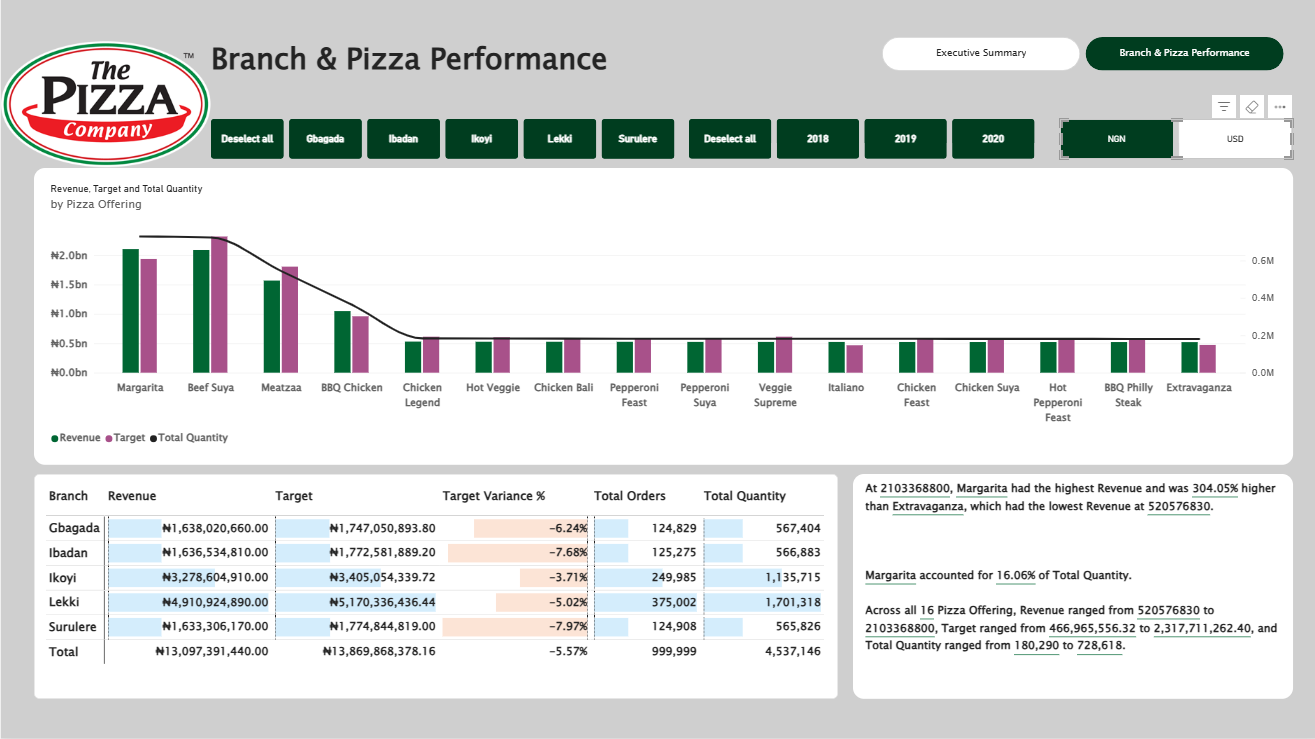

This screenshot's page, from the dashboard's own definition file:
{"tool":"powerbi","page":{"name":"Branch & Pizza Performance","canvas":[1920,1080],"ordinal":1},"visuals":[{"type":"advancedSlicerVisual","fields":{"Values":["Currency.Currency"]},"box":[1545,176.5,339.9,58.4],"z":0},{"type":"image","box":[0,0,306.4,309.3],"z":1000},{"type":"advancedSlicerVisual","fields":{"Values":["DimBranch.Branch"]},"box":[306.4,176.5,678.4,58.4],"z":2000},{"type":"advancedSlicerVisual","fields":{"Values":["Calendar.Year"]},"box":[1003.8,176.5,504.8,58.4],"z":3000},{"type":"lineClusteredColumnComboChart","fields":{"Category":["DimPizza.Pizza Offering"],"Y":["_Measures.Revenue","_Measures.Target"],"Y2":["_Measures.Total Quantity"]},"box":[48.1,248,1836.8,433.3],"z":4000},{"type":"pivotTable","fields":{"Rows":["DimBranch.Branch"],"Values":["_Measures.Revenue","_Measures.Target","_Measures.Target Variance %","_Measures.Total Orders","_Measures.Total Quantity"]},"box":[48.1,694.5,1173,328.3],"z":5000},{"type":"textbox","box":[1243,694.5,641.9,328.3],"z":6000},{"type":"pageNavigator","box":[1285.3,56.9,586.5,49.6],"z":7000},{"type":"textbox","box":[306.4,56.9,602.6,71.5],"z":8000}]}

Visuals, with their boxes in screenshot pixels (x1, y1, x2, y2), scaled from the page's 1920x1080 canvas onto the 1315x739 screenshot:
advancedSlicerVisual - Currency.Currency: <box>1058,121,1291,161</box>
image: <box>0,0,210,212</box>
advancedSlicerVisual - DimBranch.Branch: <box>210,121,674,161</box>
advancedSlicerVisual - Calendar.Year: <box>687,121,1033,161</box>
lineClusteredColumnComboChart - DimPizza.Pizza Offering x _Measures.Revenue: <box>33,170,1291,466</box>
pivotTable - DimBranch.Branch x _Measures.Revenue: <box>33,475,836,700</box>
textbox: <box>851,475,1291,700</box>
pageNavigator: <box>880,39,1282,73</box>
textbox: <box>210,39,623,88</box>
